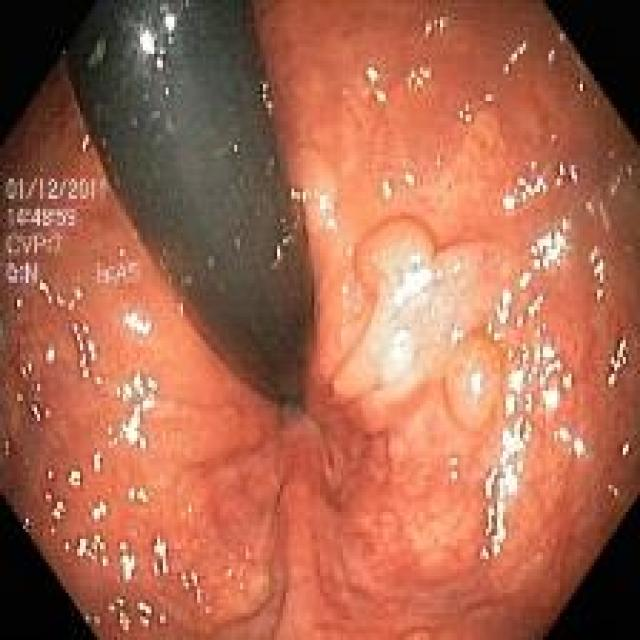Polyps: (332, 218, 504, 433), (445, 335, 502, 430), (450, 380, 495, 430)
